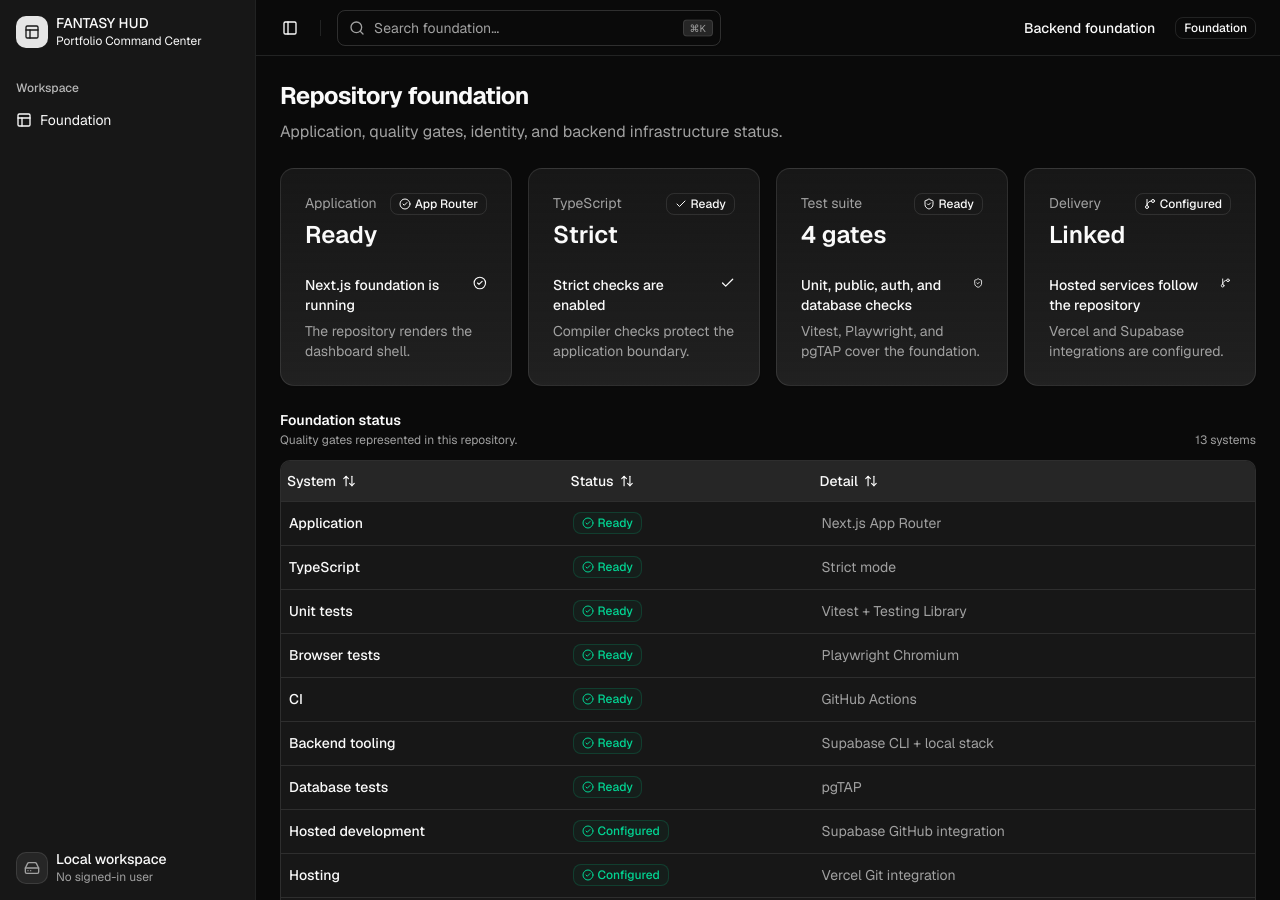
it: foundation page › filters every foundation field and clearing restores all rows
Type "pgTAP" into the search field named "Search foundation status" at coordinates (529, 28), box top-left (337, 10), bottom-right (721, 46)
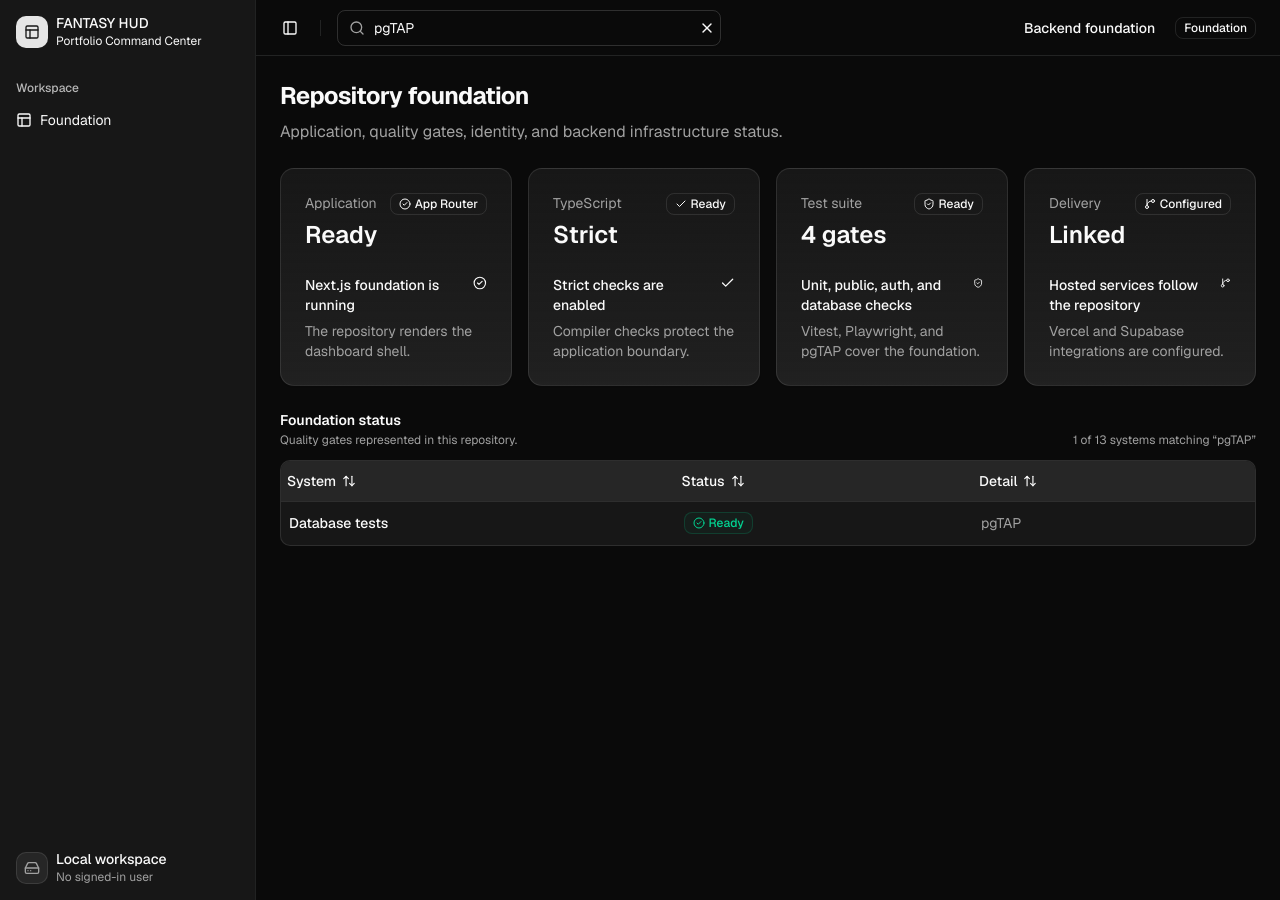
Check: the row "Database tests Ready pgTAP" is shown, box top-left (281, 501), bottom-right (1255, 545)
Check: the number of rows is 2, box top-left (281, 461), bottom-right (1255, 501); top-left (281, 501), bottom-right (1255, 545)
Check: the message reads "1 of 13 systems matching “pgTAP”", box top-left (1073, 432), bottom-right (1256, 448)
Click the button named "Clear search" at coordinates (707, 28), box top-left (699, 20), bottom-right (715, 36)
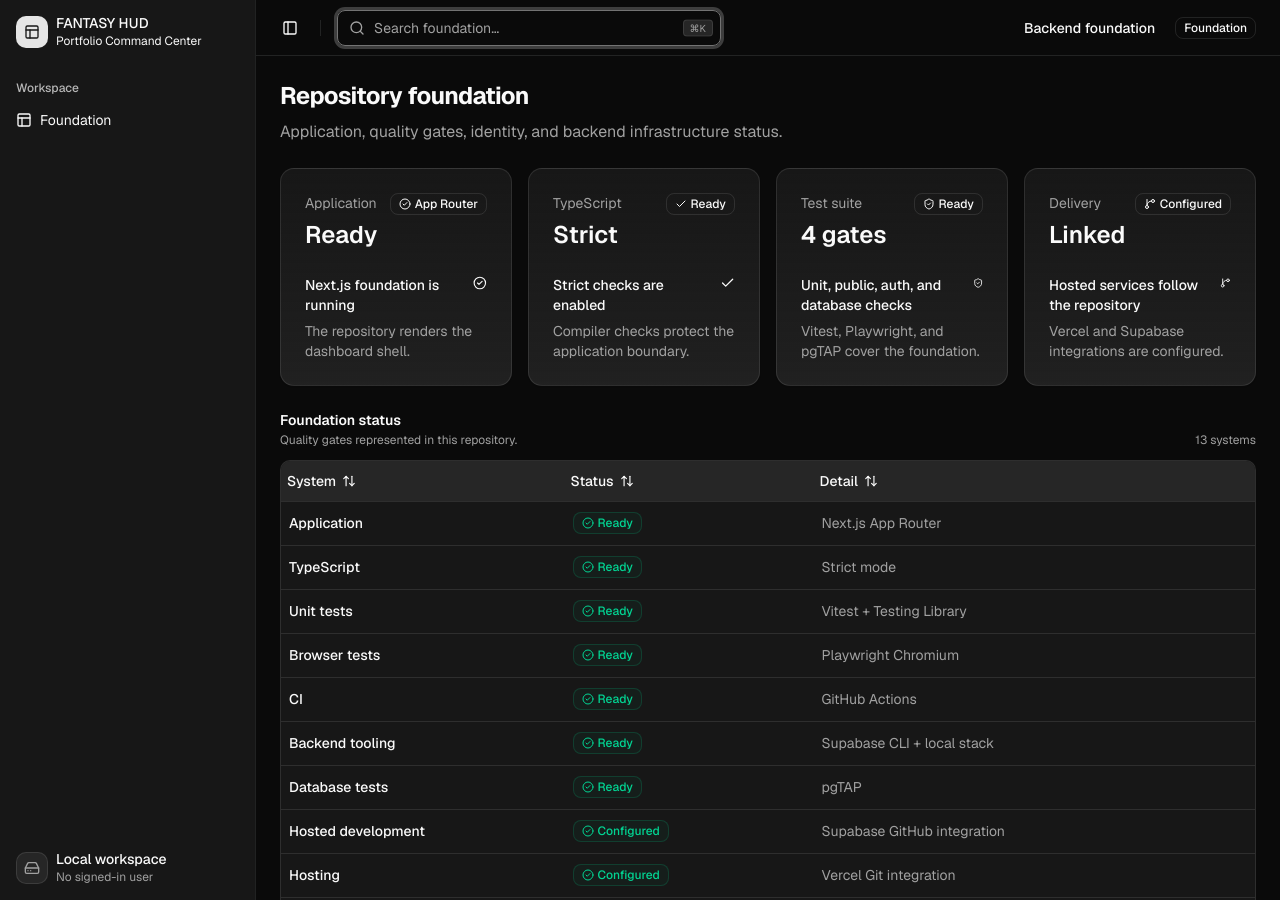
Check: the search field named "Search foundation status" is empty, box top-left (337, 10), bottom-right (721, 46)
Check: the number of rows is 14
